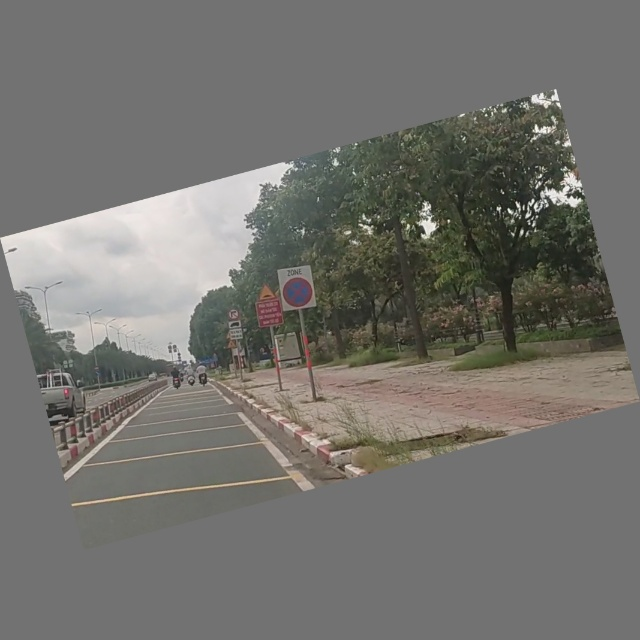P.123b: (226, 308, 239, 321)
P.130: (273, 262, 319, 315)
S.505a*Xe tai: (226, 320, 244, 343)
W.221b: (254, 282, 277, 304)
